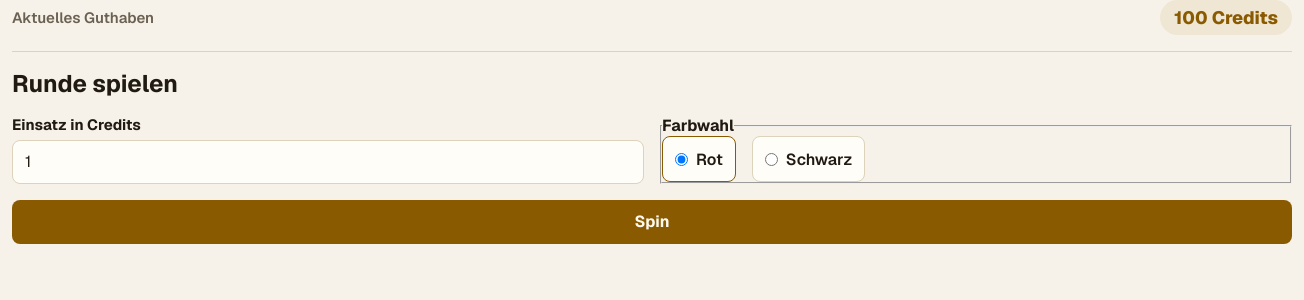
RouletteGame › shows a safe accessible action error
Click the button "Spin": (652, 222) 12,200 -> 1292,244
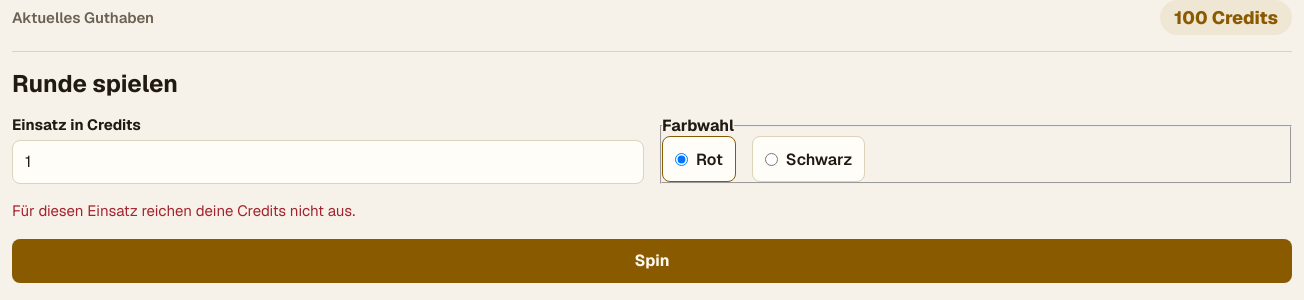
Expected: the message reads "Für diesen Einsatz reichen deine Credits nicht aus.", 12,201 -> 355,220
